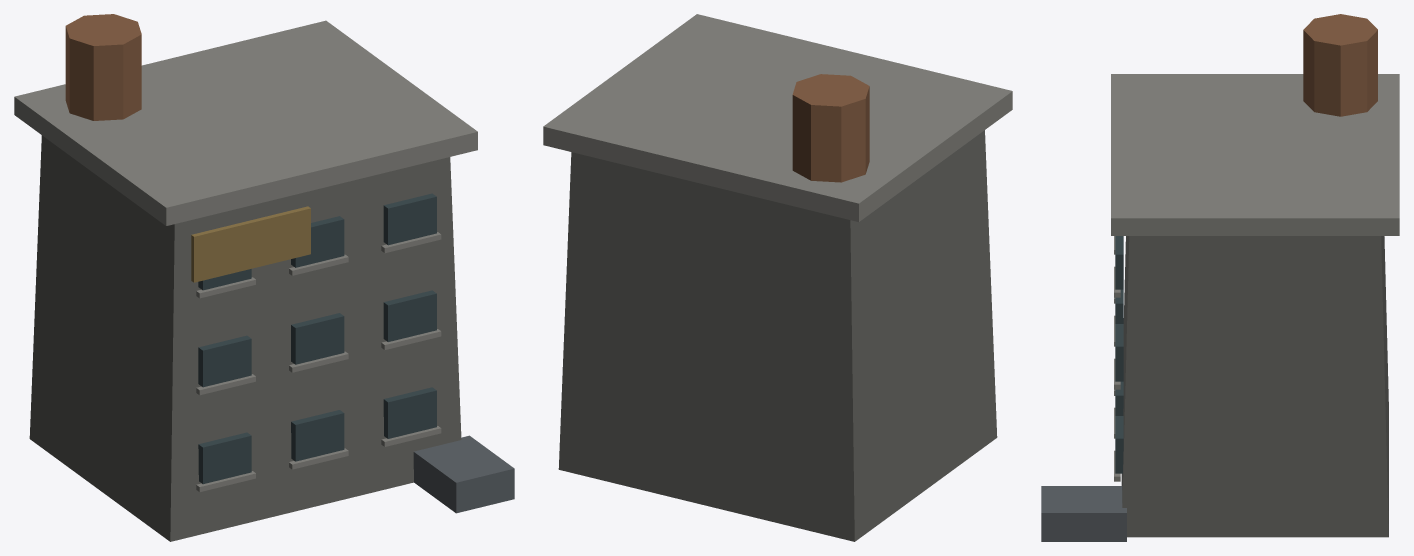
The model's file is hab_block.glb.
3 views of the same model, side by side, from view 1: azimuth 30°, elevation 25°; view 2: azimuth 150°, elevation 25°; view 3: azimuth 270°, elevation 25° (orthographic). The views are drawn at different scales.
Parts seen in each view (by area): view 1: body, roof, tank, paint, stair, win12, win01, win11, win22, win10, win00, win02 (+1 smaller); view 2: body, roof, tank; view 3: body, roof, tank, stair, win12, win02, win22.
Boxes of the visible parts, x1,y1,x2,y2 form: body: [29, 135, 461, 541]; roof: [14, 20, 477, 225]; tank: [65, 14, 141, 120]; paint: [191, 206, 310, 282]; stair: [413, 435, 514, 513]; win12: [383, 290, 436, 341]; win01: [291, 410, 344, 461]; win11: [291, 313, 344, 364]; win22: [383, 193, 436, 245]; win10: [198, 335, 251, 387]; win00: [198, 432, 251, 484]; win02: [383, 387, 436, 438]; body: [558, 130, 997, 541]; roof: [543, 14, 1012, 221]; tank: [792, 74, 869, 182]; body: [1121, 236, 1388, 537]; roof: [1111, 74, 1399, 235]; tank: [1303, 14, 1377, 116]; stair: [1041, 486, 1126, 541]; win12: [1115, 324, 1123, 381]; win02: [1115, 416, 1123, 473]; win22: [1115, 236, 1123, 289].
Bounding box in the file's own units: 6.4 × 8.15 × 6.7.
